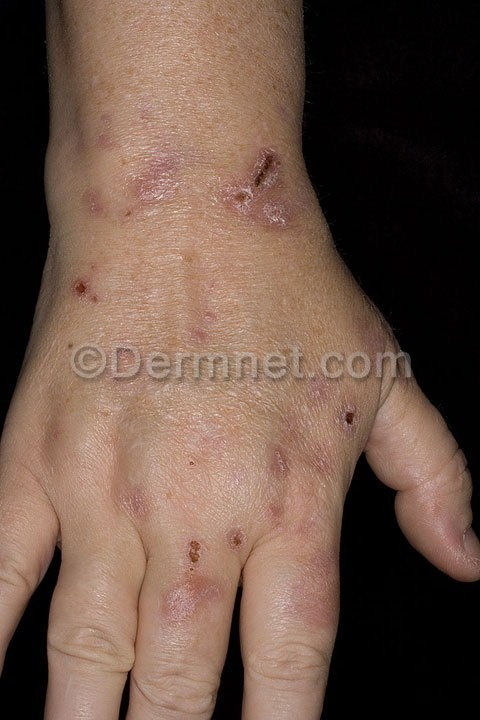Melasma: (237, 192, 480, 589), (63, 138, 302, 322)
